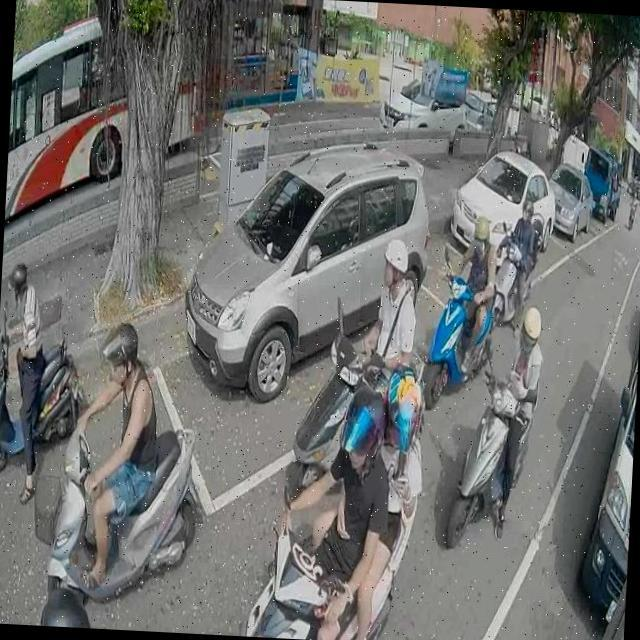person: (262, 376, 397, 640), (314, 367, 426, 640), (64, 313, 164, 598), (485, 296, 543, 542), (0, 257, 53, 508), (358, 234, 419, 398), (444, 202, 498, 376), (504, 197, 544, 329), (41, 569, 92, 628)
